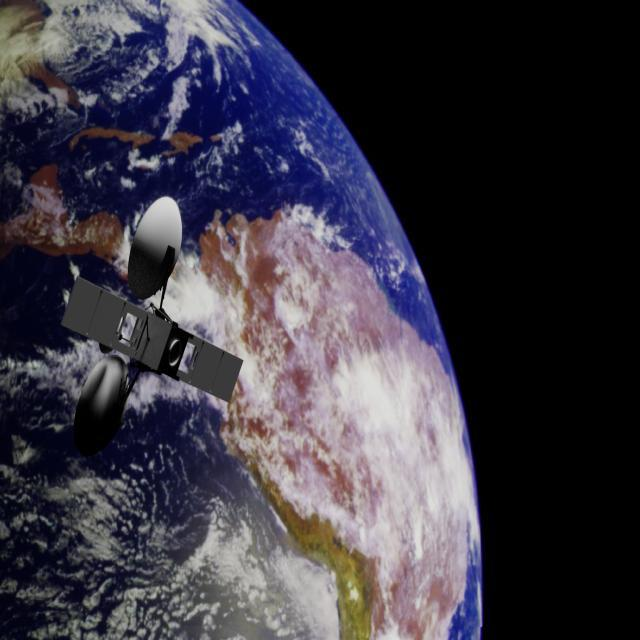satellite: (41, 196, 260, 467)
